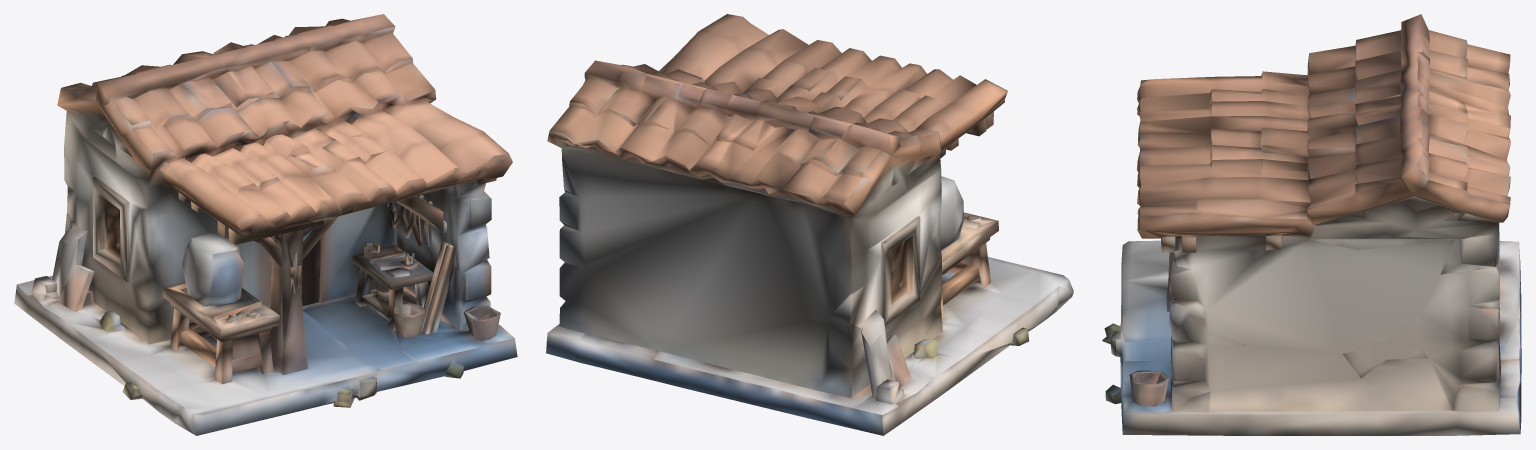
File: islik.glb
3 views of the same model, side by side, from view 1: azimuth 30°, elevation 25°; view 2: azimuth 150°, elevation 25°; view 3: azimuth 270°, elevation 25° (orthographic). The views are drawn at different scales.
Parts seen in each view (by area): view 1: node_0; view 2: node_0; view 3: node_0.
Boxes of the visible parts, x1,y1,x2,y2 form: node_0: (14, 14, 517, 435); node_0: (546, 14, 1073, 435); node_0: (1102, 14, 1521, 435).
Size of the model in its own units: 0.7914 by 0.5479 by 0.7662.
Materials: 1 (1 with a texture image).
